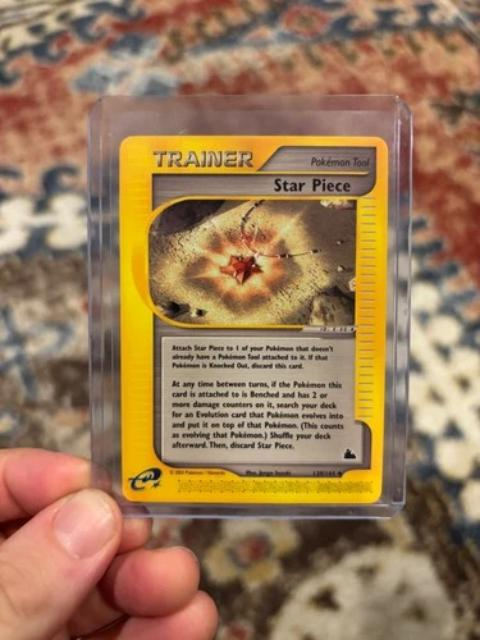Card: (115, 131, 393, 506)
Name: (267, 172, 356, 197)
